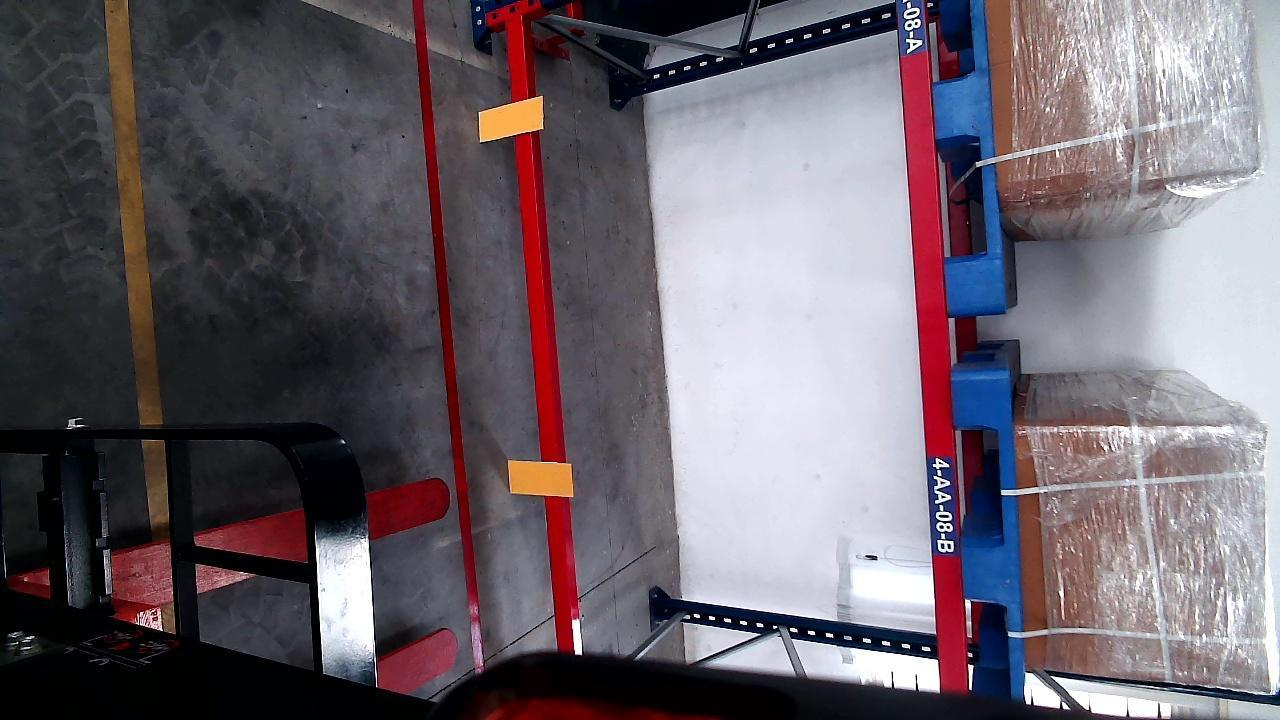h_rack: (896, 0, 965, 692), (508, 8, 580, 663)
orange_strip: (478, 97, 541, 142), (507, 460, 573, 497)
small_pallet: (926, 0, 1006, 315), (954, 366, 1025, 692)
